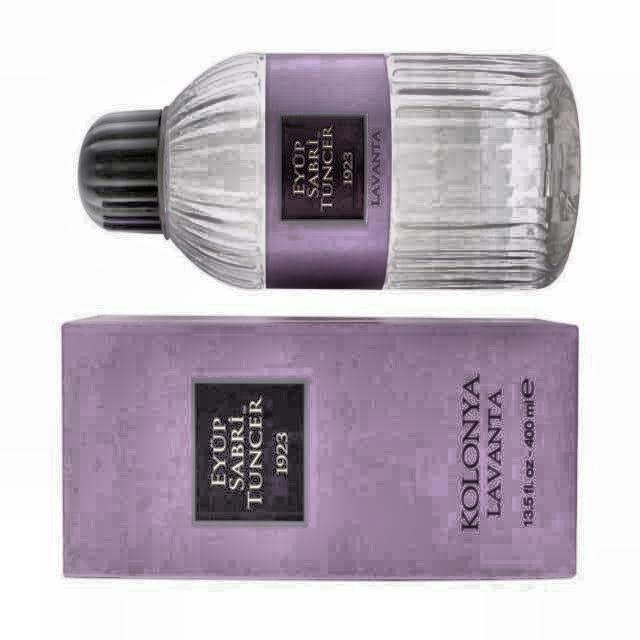cardboard: (62, 316, 578, 579)
plastic: (79, 54, 580, 288)
